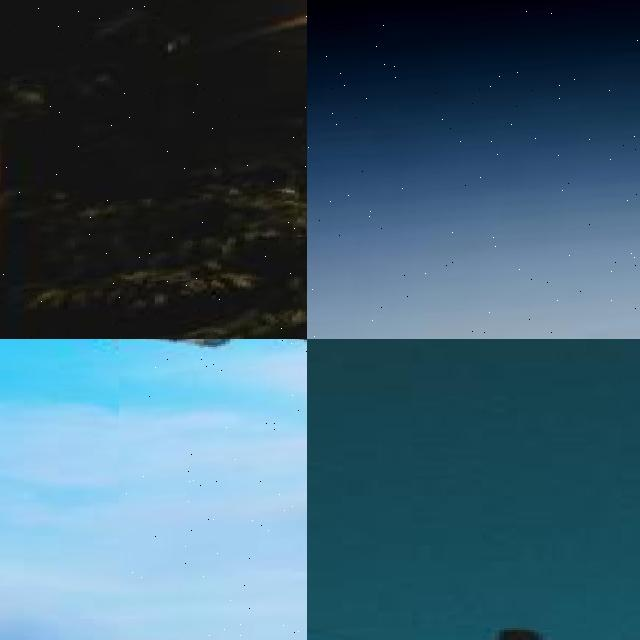street light: (307, 0, 640, 339), (0, 0, 307, 339), (119, 339, 307, 640)
